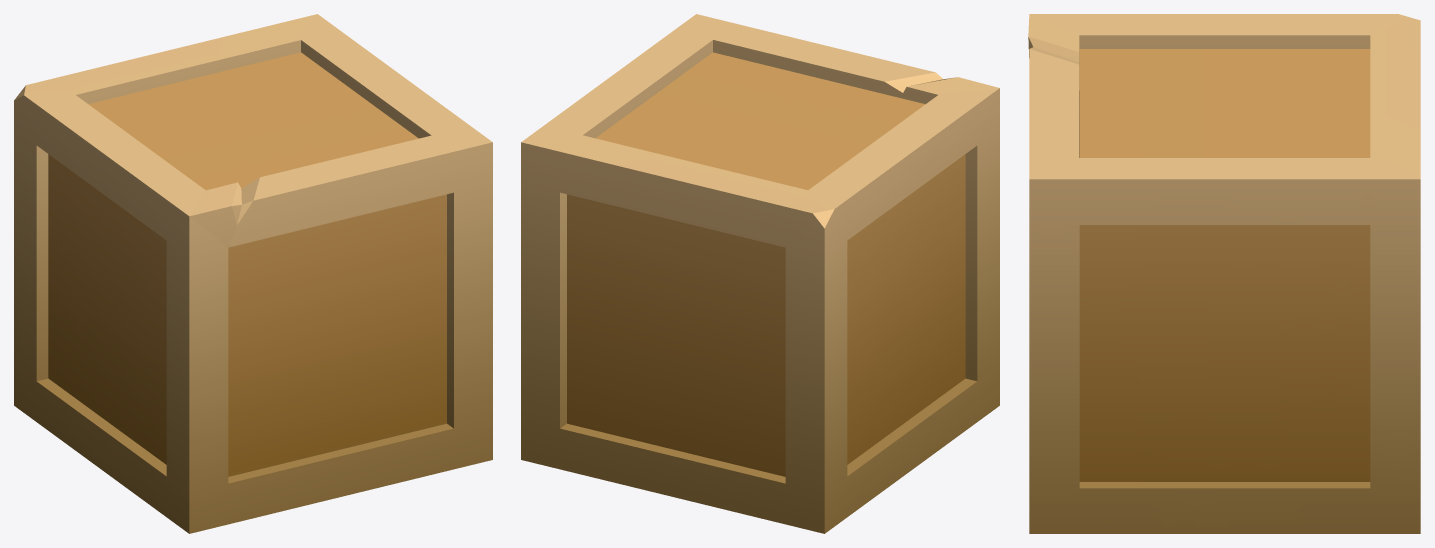
The model's file is Small_Crate_A.fbx.
3 views of the same model, side by side, from view 1: azimuth 30°, elevation 25°; view 2: azimuth 150°, elevation 25°; view 3: azimuth 270°, elevation 25° (orthographic). The views are drawn at different scales.
Parts seen in each view (by area): view 1: Small_Crate_A; view 2: Small_Crate_A; view 3: Small_Crate_A.
Part boxes in pixels (x1,y1,x2,y2): Small_Crate_A: [14, 14, 492, 533]; Small_Crate_A: [521, 14, 999, 533]; Small_Crate_A: [1028, 14, 1420, 533].
Bounding box in the file's own units: 50.09 × 50.22 × 50.15.
Materials: 1 (1 with a texture image).
